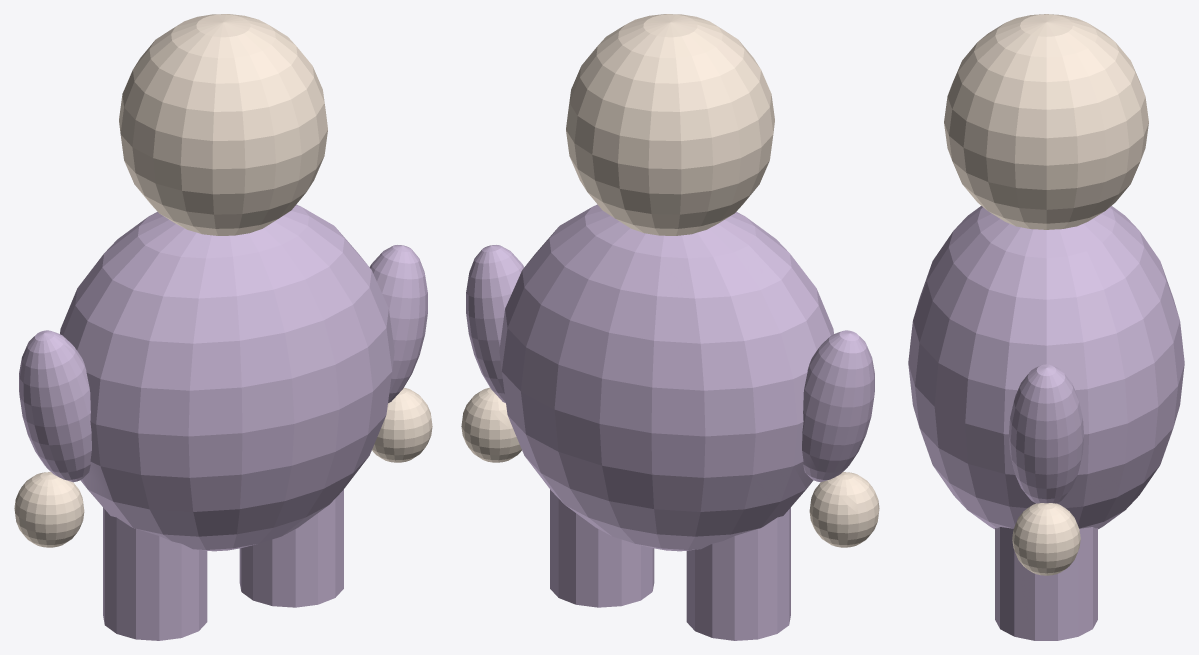
File: preset-06.glb
3 views of the same model, side by side, from view 1: azimuth 30°, elevation 25°; view 2: azimuth 150°, elevation 25°; view 3: azimuth 270°, elevation 25° (orthographic). The views are drawn at different scales.
Visible parts, largest first — view 1: preset-06; view 2: preset-06; view 3: preset-06.
Boxes of the visible parts, <box> form: preset-06: <box>14,14,432,640</box>; preset-06: <box>461,14,879,640</box>; preset-06: <box>908,14,1184,640</box>.
Size of the model in its own units: 0.2584 by 0.35 by 0.1552.
